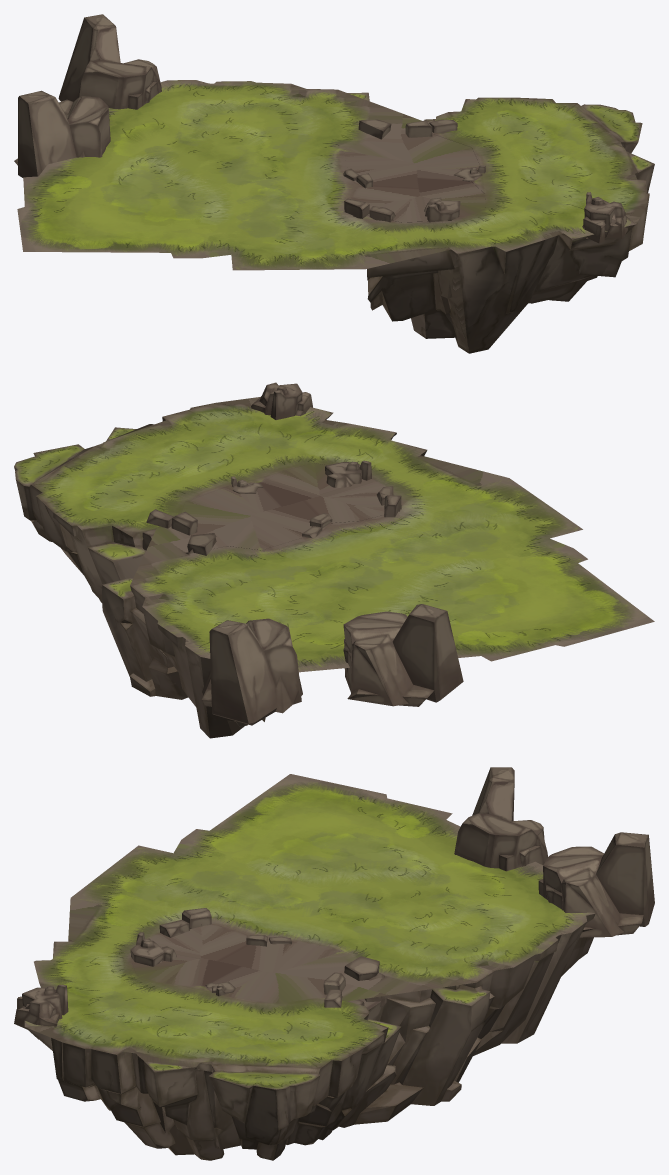
Rendered from Island_China.fbx.
3 renders of one model, top to bottom at view 1: azimuth 30°, elevation 25°; view 2: azimuth 150°, elevation 25°; view 3: azimuth 270°, elevation 25°, orthographic. The views are drawn at different scales.
Parts seen in each view (by area): view 1: Rock_03_0_08.003, Rock_01_09.001, Rock_01_09.003, Rock_01_07.010, Rock_01_08.007, Rock_01_08.006, Rock_01_07; view 2: Rock_03_0_08.003, Rock_01_09.001, Rock_01_09.003, Rock_01_07.010, Rock_01_07, Rock_01_08.007, Rock_01_08.006, Rock_01_04; view 3: Rock_03_0_08.003, Rock_01_09.003, Rock_01_09.001, Rock_01_07.010, Rock_01_07, Rock_01_08.006, Rock_01_04, Rock_01_08.007.
Boxes of the visible parts, left/top/right/bottom form: Rock_03_0_08.003: left=17, top=80, right=654, bottom=353; Rock_01_09.001: left=14, top=90, right=110, bottom=177; Rock_01_09.003: left=58, top=14, right=161, bottom=109; Rock_01_07.010: left=582, top=192, right=627, bottom=243; Rock_01_08.007: left=405, top=119, right=457, bottom=137; Rock_01_08.006: left=344, top=198, right=395, bottom=222; Rock_01_07: left=424, top=197, right=460, bottom=222; Rock_03_0_08.003: left=14, top=397, right=654, bottom=738; Rock_01_09.001: left=343, top=604, right=463, bottom=706; Rock_01_09.003: left=201, top=618, right=302, bottom=725; Rock_01_07.010: left=251, top=382, right=312, bottom=419; Rock_01_07: left=325, top=460, right=371, bottom=487; Rock_01_08.007: left=142, top=509, right=197, bottom=550; Rock_01_08.006: left=376, top=486, right=401, bottom=517; Rock_01_04: left=185, top=533, right=216, bottom=555; Rock_03_0_08.003: left=24, top=774, right=595, bottom=1160; Rock_01_09.003: left=538, top=832, right=654, bottom=937; Rock_01_09.001: left=454, top=767, right=547, bottom=871; Rock_01_07.010: left=14, top=984, right=68, bottom=1029; Rock_01_07: left=130, top=932, right=176, bottom=966; Rock_01_08.006: left=159, top=908, right=211, bottom=937; Rock_01_04: left=344, top=956, right=388, bottom=1006; Rock_01_08.007: left=323, top=972, right=364, bottom=1007.
Bounding box in the file's own units: 1171 × 401 × 1015.
1 material, 1 textured.
